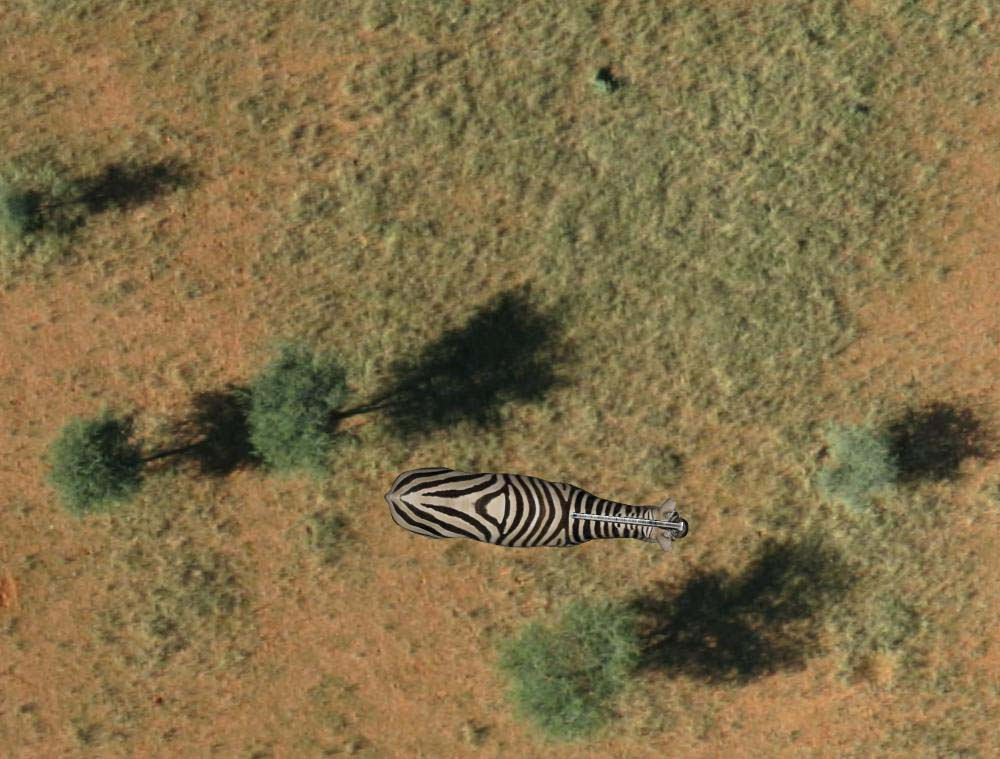zebra: (385, 462, 694, 556)
